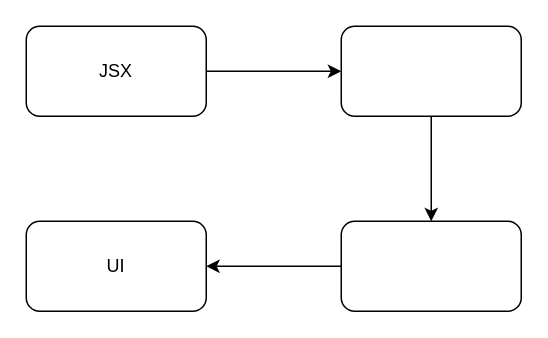
This 548x338 diagram has some shape labels left out. Each missing label, with the centre of its shape:
Fiber: the point at 430,265
ReactElement: the point at 430,70
